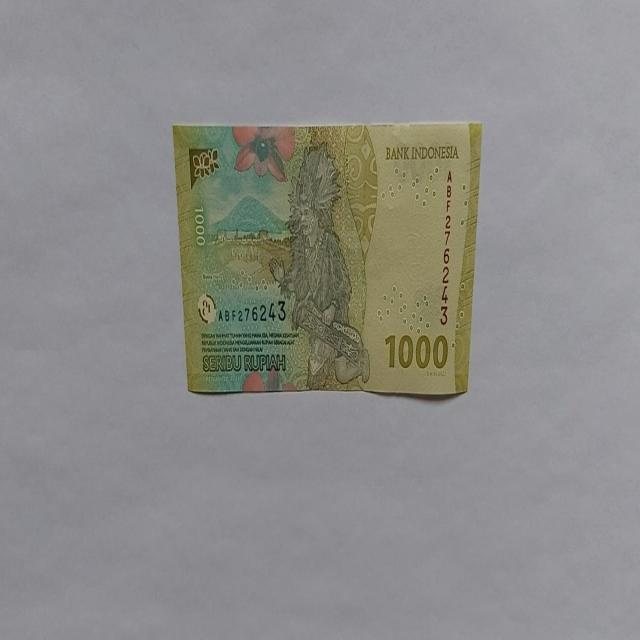seribu rupiah kertas: (172, 121, 482, 397)
